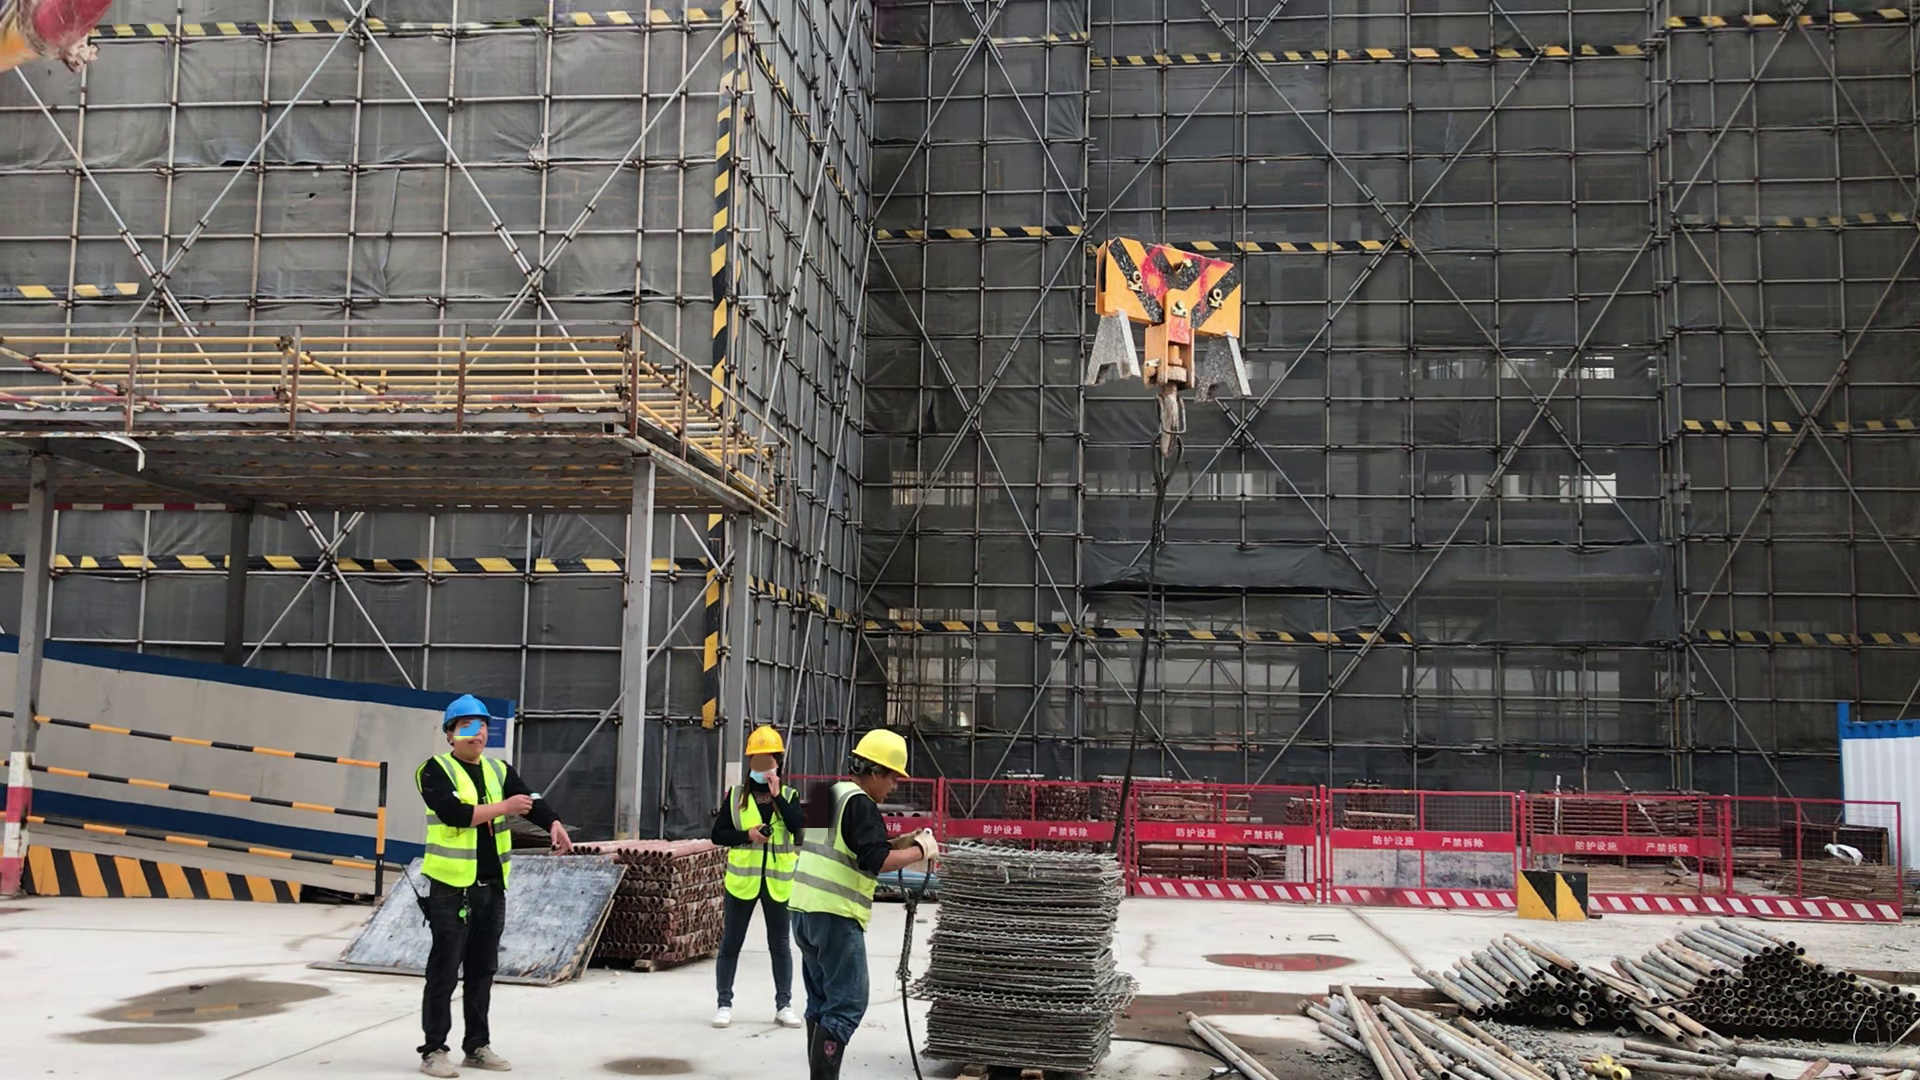fence: (50, 708, 393, 879), (1143, 775, 1514, 916), (1600, 786, 1910, 926), (939, 774, 1102, 845)
helmet: (842, 726, 910, 780), (442, 695, 496, 730), (739, 726, 783, 756)
hook: (1078, 232, 1258, 457)
person: (414, 694, 570, 1080), (786, 731, 938, 1080), (707, 722, 804, 1030)
scaffold: (1626, 919, 1920, 1051), (1411, 928, 1632, 1030), (624, 834, 719, 976)
vest: (417, 753, 515, 892), (788, 785, 875, 936), (724, 783, 798, 906)
